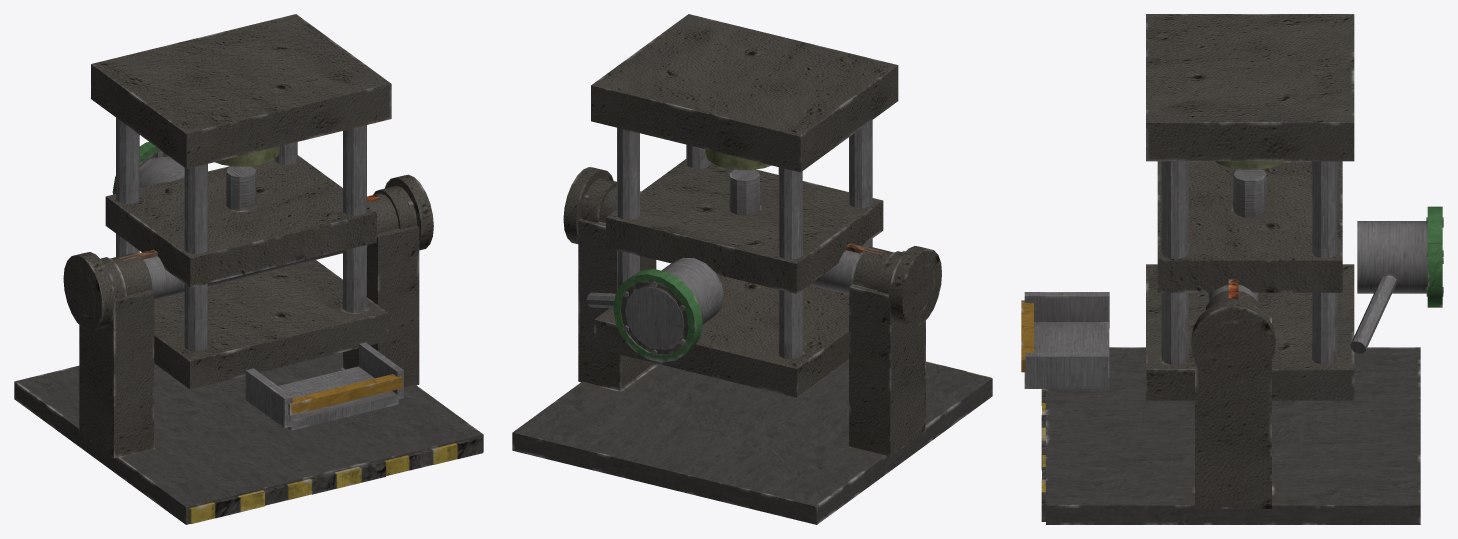
Rendered from feVulcanizer_HD.fbx.
The picture shows the model from 3 angles, left to right: view 1: azimuth 30°, elevation 25°; view 2: azimuth 150°, elevation 25°; view 3: azimuth 270°, elevation 25°; orthographic projection. The views are drawn at different scales.
Parts seen in each view (by area): view 1: feVulcanizer_Base, FePiston_Platen, FeSpin_DriveShaft; view 2: feVulcanizer_Base, FePiston_Platen, FeSpin_DriveShaft; view 3: feVulcanizer_Base, FePiston_Platen, FeSpin_DriveShaft.
Part boxes in pixels (<box>): feVulcanizer_Base: <box>14,14,483,524</box>; FePiston_Platen: <box>105,155,376,287</box>; FeSpin_DriveShaft: <box>63,174,433,331</box>; feVulcanizer_Base: <box>512,14,992,524</box>; FePiston_Platen: <box>606,159,883,293</box>; FeSpin_DriveShaft: <box>563,167,941,326</box>; feVulcanizer_Base: <box>1021,14,1443,524</box>; FePiston_Platen: <box>1157,161,1342,292</box>; FeSpin_DriveShaft: <box>1191,279,1275,383</box>.
Bounding box in the file's own units: 1 × 1 × 1.02.
1 material, 1 textured.
